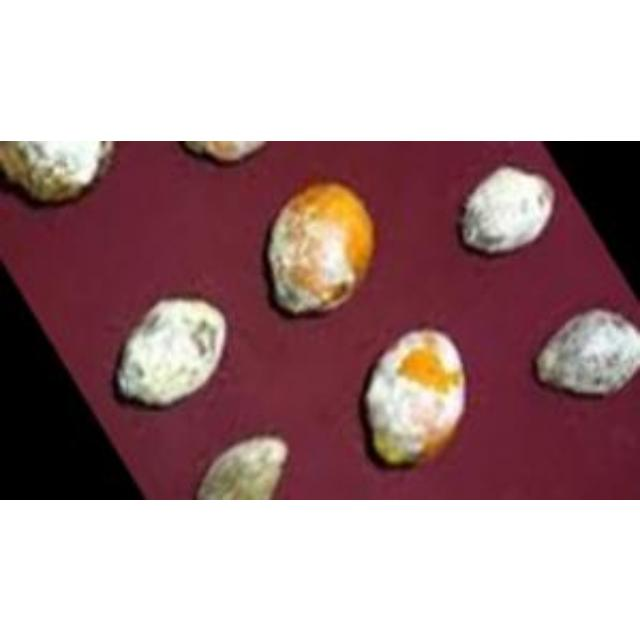damaged: (259, 174, 379, 322), (357, 326, 469, 470), (113, 292, 231, 412), (452, 163, 554, 269), (531, 307, 638, 401), (0, 140, 120, 208), (195, 435, 289, 497)
